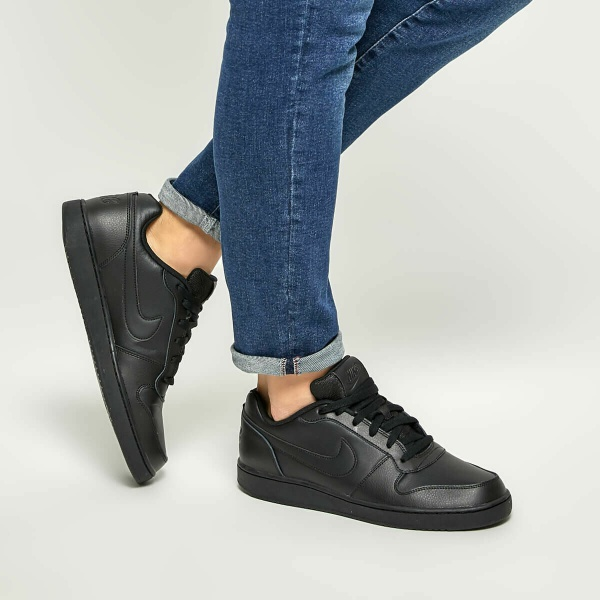nike: (256, 426, 363, 482), (116, 215, 161, 346)
